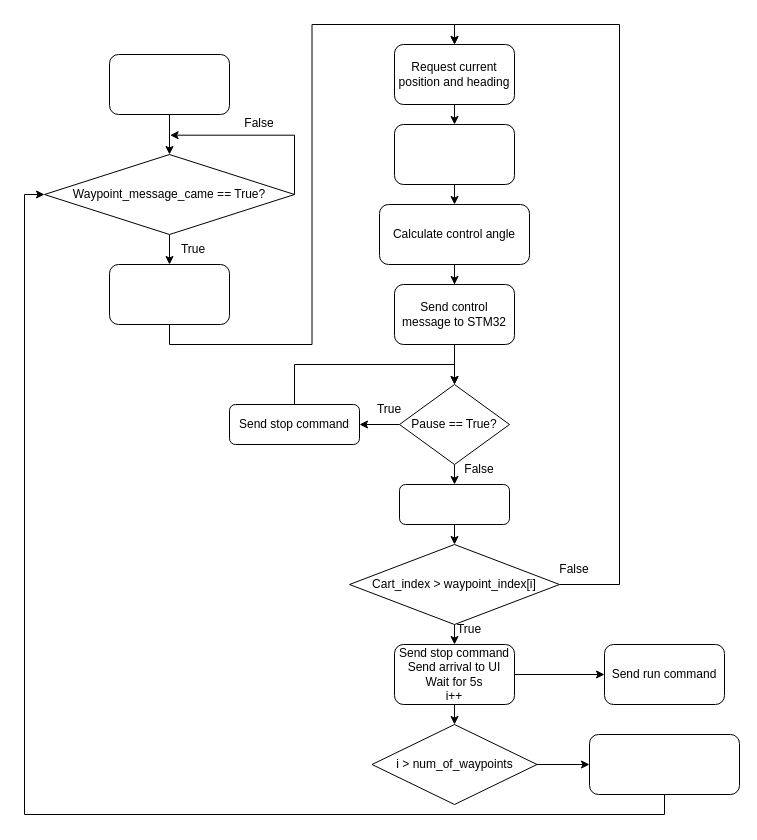
The diagram is 757 pixels wide and 840 high, and some of its shapes have lost their labels. The box of each missing label's shape, as (x1, y1, x2, y2) in pixels:
Generate path: (108, 264, 230, 324)
Init components: (108, 54, 230, 114)
Send current position and heading to UI: (394, 124, 514, 184)
Send run command Send status to UI: (398, 484, 510, 524)
Send stop. Send arrival message to UI: (588, 734, 740, 794)
